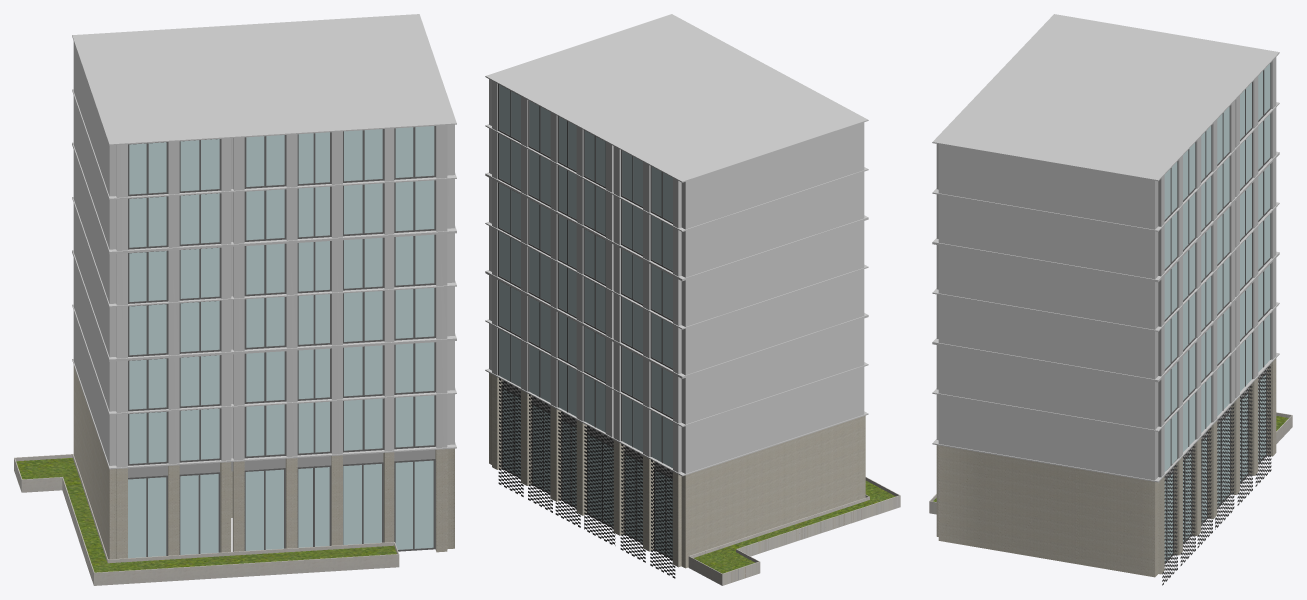
Rendered from Torre_C-3-FIX.fbx.
3 views of the same model, side by side, from view 1: azimuth 30°, elevation 25°; view 2: azimuth 150°, elevation 25°; view 3: azimuth 270°, elevation 25° (orthographic). The views are drawn at different scales.
Parts seen in each view (by area): view 1: MSH_Ventanas_Torre_C_Abajo.003, MSH_Torre_3.002, MSH_Torre_3, MSH_Ventanas_Torre_C_Abajo.001, MSH_Torre_Muros_3, MSH_Jardinera_torre_C, MSH_Jardinera_torre_C.001; view 2: MSH_Torre_3, MSH_Torre_3.002, MSH_Ventanas_Torre_C_Abajo.004, MSH_Torre_Muros_3, MSH_Plano_cuadritos.005, MSH_Ventanas_Torre_C_Abajo.002, MSH_Jardinera_torre_C, MSH_Jardinera_torre_C.001; view 3: MSH_Torre_3, MSH_Torre_3.002, MSH_Torre_Muros_3, MSH_Ventanas_Torre_C_Abajo.004, MSH_Plano_cuadritos.005, MSH_Ventanas_Torre_C_Abajo.002.
Part boxes in pixels (x1=…): MSH_Ventanas_Torre_C_Abajo.003: x1=128, y1=126, x2=435, y2=465; MSH_Torre_3.002: x1=72, y1=14, x2=456, y2=469; MSH_Torre_3: x1=73, y1=41, x2=454, y2=467; MSH_Ventanas_Torre_C_Abajo.001: x1=128, y1=459, x2=435, y2=558; MSH_Torre_Muros_3: x1=73, y1=365, x2=454, y2=559; MSH_Jardinera_torre_C: x1=14, y1=454, x2=399, y2=585; MSH_Jardinera_torre_C.001: x1=16, y1=458, x2=396, y2=572; MSH_Torre_3: x1=489, y1=79, x2=864, y2=473; MSH_Torre_3.002: x1=485, y1=14, x2=868, y2=476; MSH_Ventanas_Torre_C_Abajo.004: x1=498, y1=84, x2=672, y2=468; MSH_Torre_Muros_3: x1=489, y1=373, x2=865, y2=568; MSH_Plano_cuadritos.005: x1=498, y1=378, x2=675, y2=578; MSH_Ventanas_Torre_C_Abajo.002: x1=501, y1=387, x2=672, y2=559; MSH_Jardinera_torre_C: x1=688, y1=477, x2=900, y2=585; MSH_Jardinera_torre_C.001: x1=693, y1=480, x2=895, y2=573; MSH_Torre_3: x1=936, y1=57, x2=1276, y2=480; MSH_Torre_3.002: x1=932, y1=14, x2=1279, y2=482; MSH_Torre_Muros_3: x1=936, y1=358, x2=1276, y2=577; MSH_Ventanas_Torre_C_Abajo.004: x1=1164, y1=62, x2=1271, y2=471; MSH_Plano_cuadritos.005: x1=1162, y1=364, x2=1271, y2=585; MSH_Ventanas_Torre_C_Abajo.002: x1=1164, y1=372, x2=1266, y2=563.
Size of the model in its own units: 2585 by 2802 by 2233.
